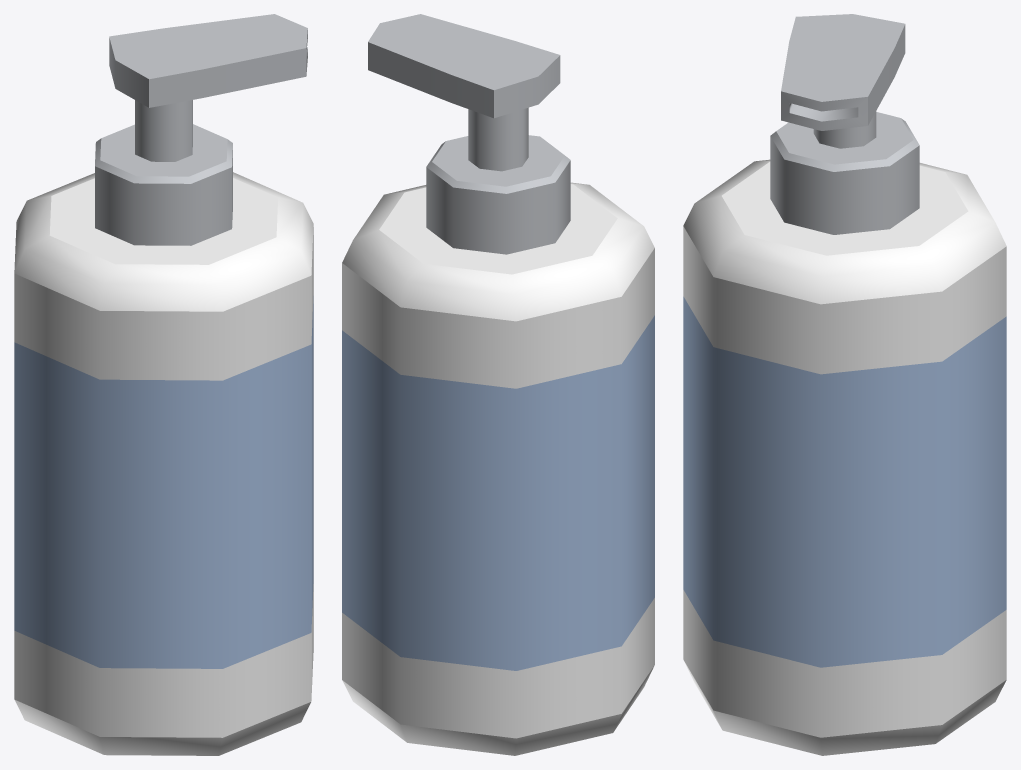
The model's file is Soap_2.fbx.
The picture shows the model from 3 angles, left to right: view 1: azimuth 30°, elevation 25°; view 2: azimuth 150°, elevation 25°; view 3: azimuth 270°, elevation 25°; orthographic projection. The views are drawn at different scales.
Parts seen in each view (by area): view 1: Soap_2; view 2: Soap_2; view 3: Soap_2.
Part boxes in pixels (x1=…): Soap_2: x1=14, y1=14, x2=313, y2=755; Soap_2: x1=342, y1=14, x2=654, y2=755; Soap_2: x1=683, y1=14, x2=1006, y2=755.
Size of the model in its own units: 0.0814 by 0.1848 by 0.0814.
